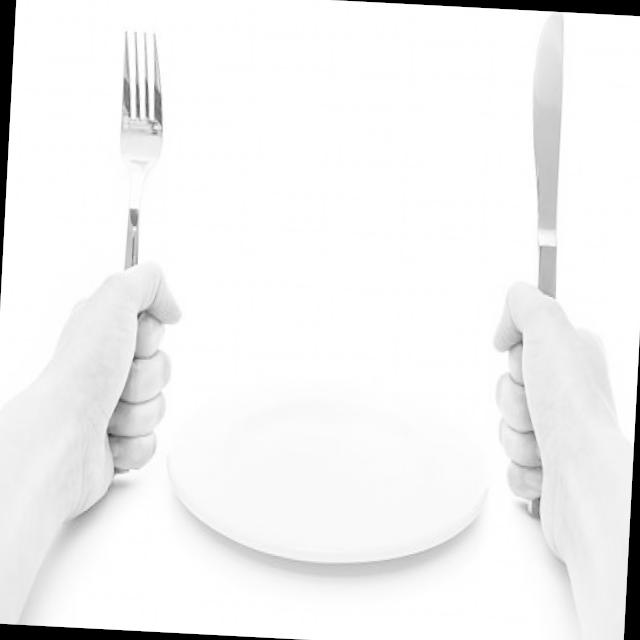fork: (100, 26, 168, 476)
